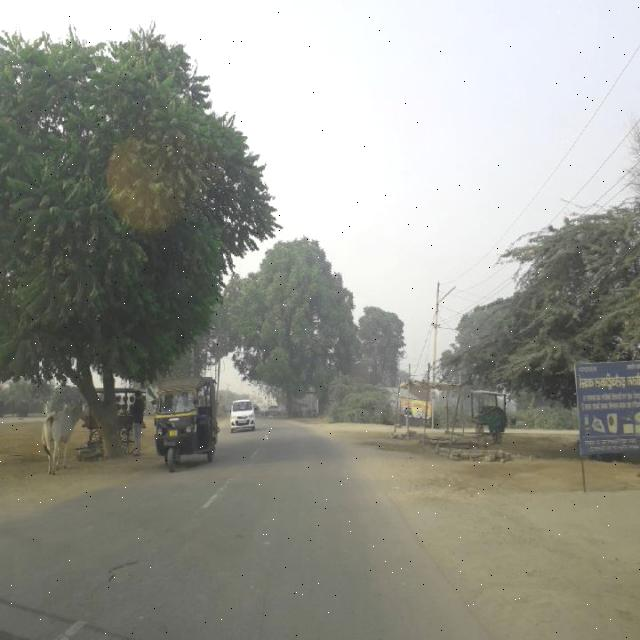D40: (106, 553, 142, 588)
